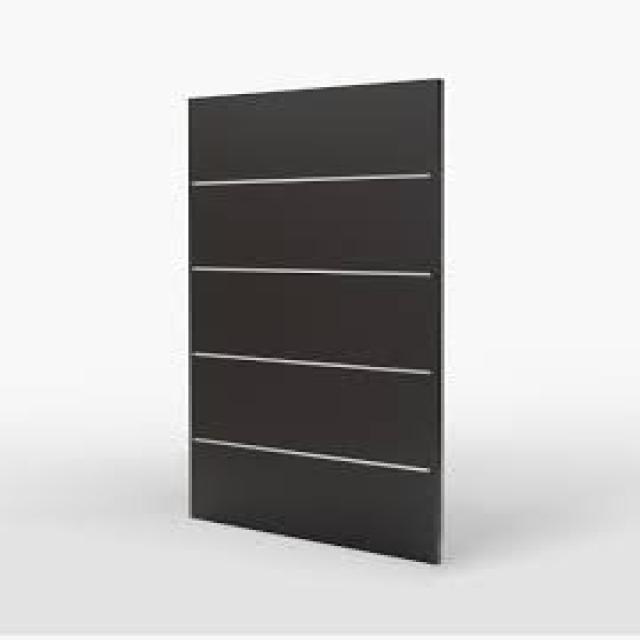door: (186, 77, 446, 566)
